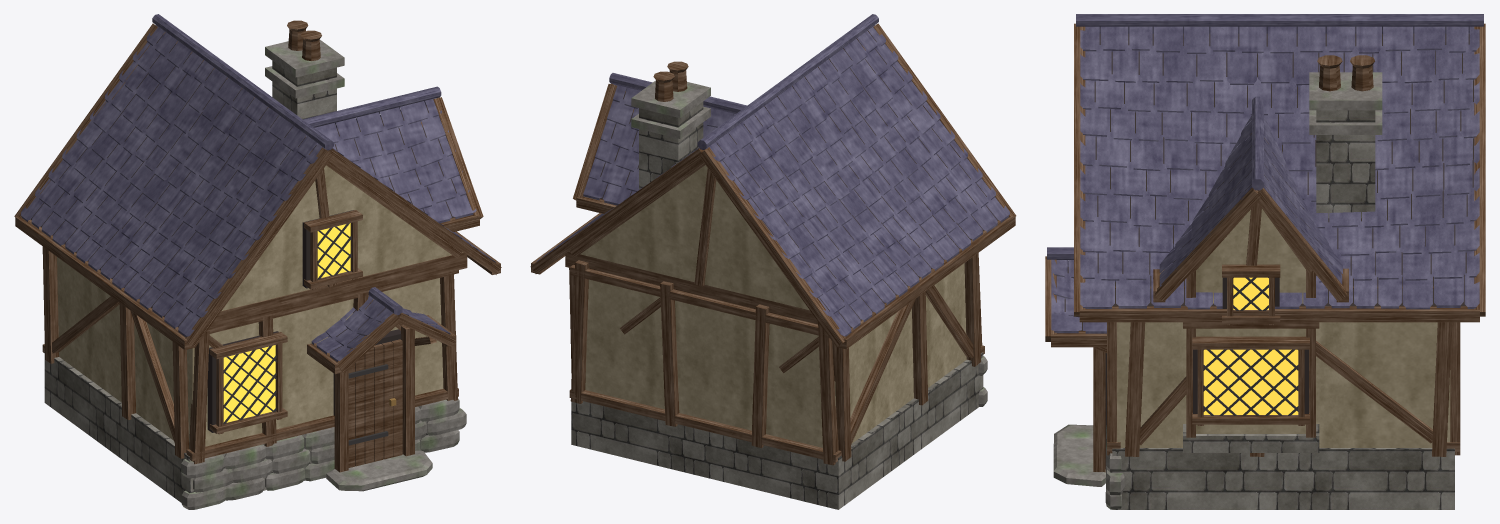
Rendered from cottage.glb.
3 views of the same model, side by side, from view 1: azimuth 30°, elevation 25°; view 2: azimuth 150°, elevation 25°; view 3: azimuth 270°, elevation 25° (orthographic). The views are drawn at different scales.
Parts seen in each view (by area): view 1: cottage; view 2: cottage; view 3: cottage.
Boxes of the visible parts, x1,y1,x2,y2 form: cottage: [14, 14, 501, 509]; cottage: [530, 14, 1016, 509]; cottage: [1045, 14, 1485, 509].
Bounding box in the file's own units: 5.95 × 6.12 × 5.81.
Materials: 9 (5 with a texture image).
